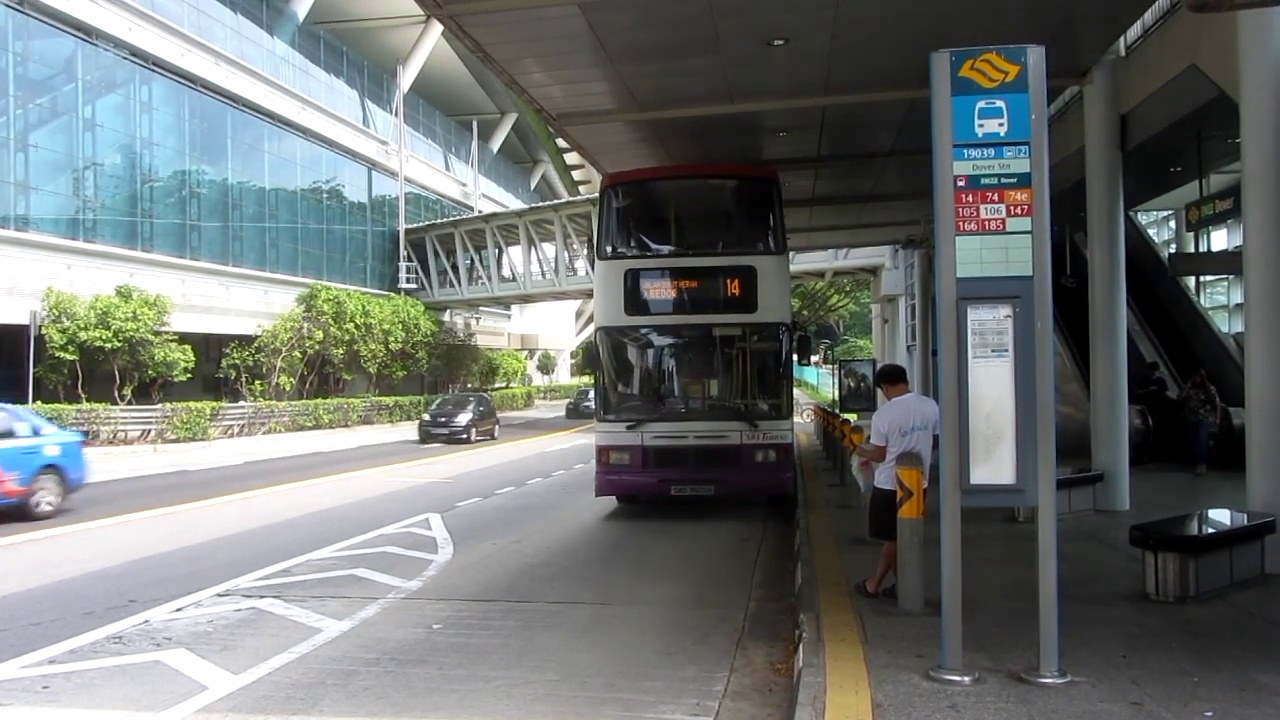bus panel: (636, 275, 745, 302)
